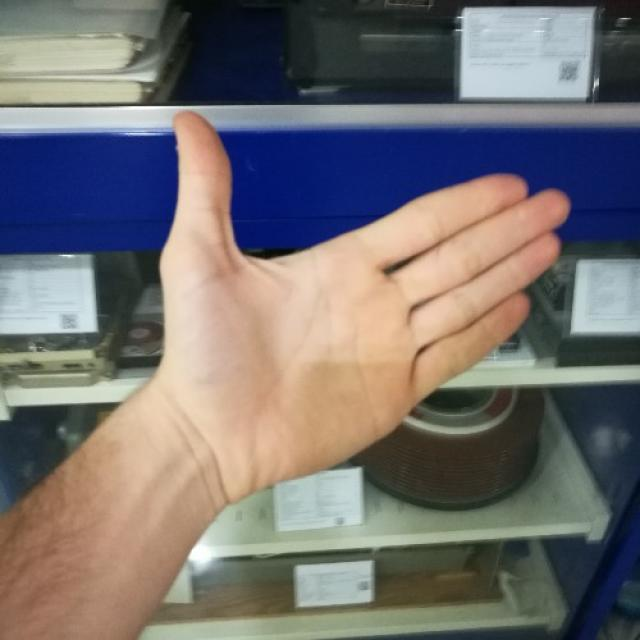paper: (161, 111, 570, 476)
